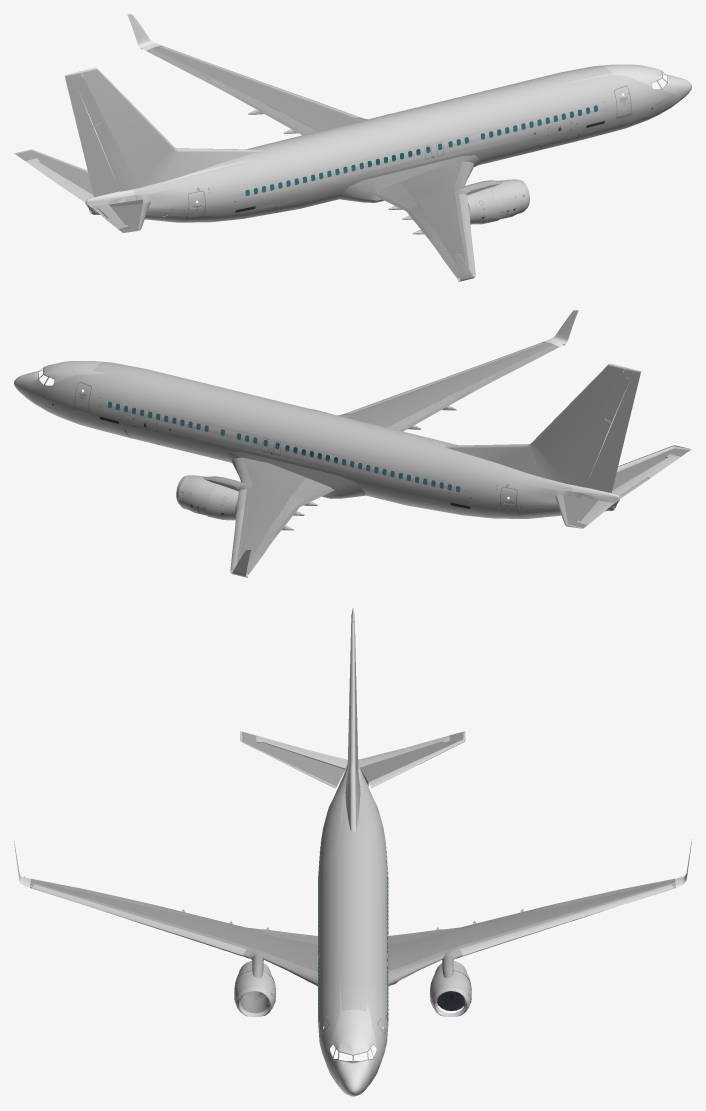
Rendered from airplane.glb.
3 views of the same model, one above another, from view 1: azimuth 30°, elevation 25°; view 2: azimuth 150°, elevation 25°; view 3: azimuth 270°, elevation 25° (orthographic). The views are drawn at different scales.
Parts seen in each view (by area): view 1: fuselage, vstab, obwing, rudder, obwing.001, rhwtobfairing, windowsrh, winginbd.001, No2engfancase, lhstab, No2reverser, rhstab (+8 smaller); view 2: fuselage, vstab, obwing.001, rudder, obwing, lhfairing, winginbd, windowslh, engnose.001, rhstab, lreverserib, lhstab (+8 smaller); view 3: fuselage, obwing, obwing.001, lhstab, rhstab, winginbd, winginbd.001, vstable, vstab.
Part boxes in pixels (x1,y1,x2,y2): fuselage: (85,64,691,222); vstab: (64,67,257,191); obwing: (152,47,359,131); rudder: (65,73,119,197); obwing.001: (414,187,465,266); rhwtobfairing: (339,155,479,202); windowsrh: (245,105,597,195); winginbd.001: (400,162,461,198); No2engfancase: (489,179,527,219); lhstab: (14,149,93,194); No2reverser: (467,188,499,224); rhstab: (108,199,150,232); fuselage: (14,361,619,518); vstab: (447,363,641,487); obwing.001: (346,343,552,427); rudder: (586,369,640,493); obwing: (240,483,291,562); lhfairing: (225,451,366,498); winginbd: (244,458,306,494); windowslh: (108,401,460,492); engnose.001: (178,475,216,515); rhstab: (612,445,691,489); lreverserib: (206,484,238,520); lhstab: (555,495,597,528); fuselage: (318,764,388,1096); obwing: (442,880,674,951); obwing.001: (31,880,263,951); lhstab: (360,731,465,788); rhstab: (240,731,345,788); winginbd: (388,934,442,971); winginbd.001: (263,934,317,971); vstable: (350,622,356,831); vstab: (345,608,360,829).
Bounding box in the file's own units: 39.42 × 12.11 × 35.69.
51 materials, 17 textured.
